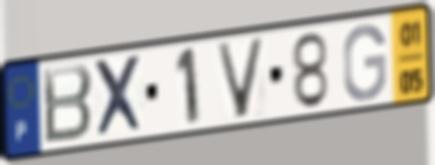1: (174, 43, 203, 129)
8: (289, 30, 330, 110)
B: (40, 61, 95, 148)
G: (340, 21, 389, 104)
V: (213, 35, 269, 122)
X: (91, 52, 148, 141)
